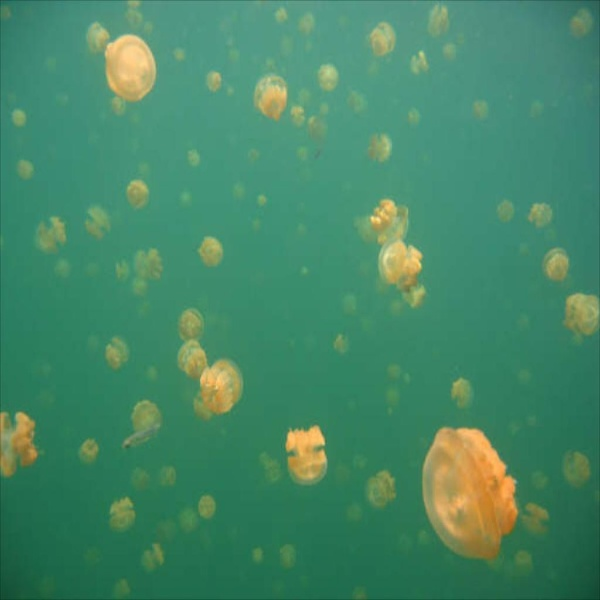Jellyfish: (0, 0, 599, 598), (420, 425, 517, 559), (100, 33, 155, 101), (282, 430, 330, 486), (376, 237, 422, 293), (0, 408, 39, 474), (200, 359, 246, 413), (559, 291, 599, 345), (367, 198, 409, 246), (254, 74, 288, 121), (368, 21, 396, 55)
